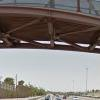Bridge: (1, 1, 97, 58)
